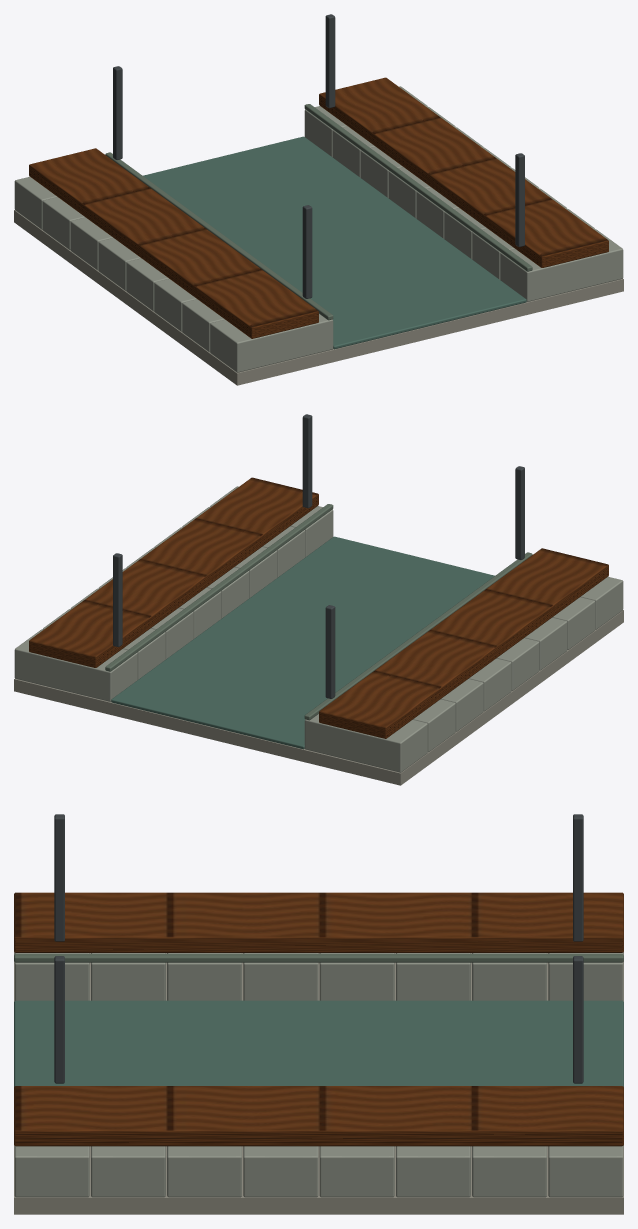
Rendered from undercity-sewers-and-thieves-den-timber-repair-walkway-acdbccc5__25021.glb.
3 renders of one model, top to bottom at view 1: azimuth 30°, elevation 25°; view 2: azimuth 150°, elevation 25°; view 3: azimuth 270°, elevation 25°, orthographic. The views are drawn at different scales.
Parts seen in each view (by area): view 1: timber-repair-walkway; view 2: timber-repair-walkway; view 3: timber-repair-walkway.
Boxes of the visible parts, x1,y1,x2,y2 form: timber-repair-walkway: (14,14,623,385); timber-repair-walkway: (14,414,623,785); timber-repair-walkway: (14,814,623,1214).
Size of the model in its own units: 4 by 1.44 by 4.
6 materials, 1 textured.
